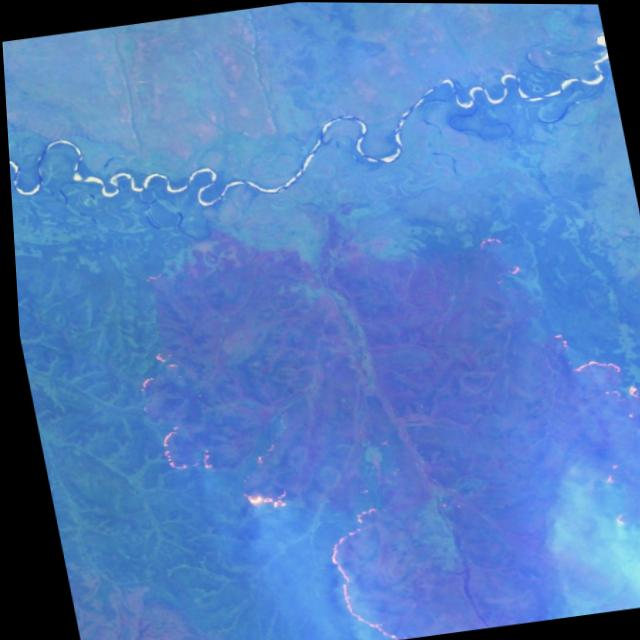fire: (119, 346, 421, 640), (544, 342, 640, 534)
